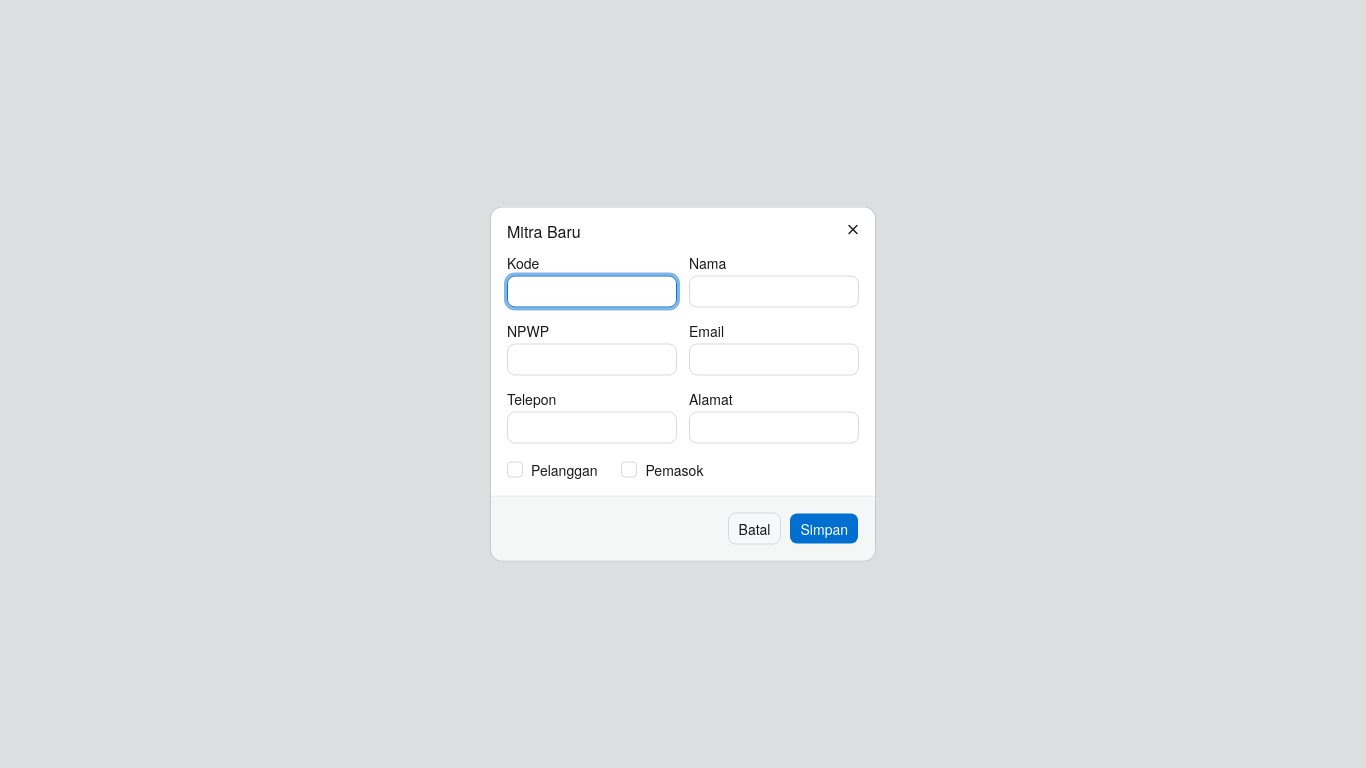
Test: requires at least one of customer/vendor
Type "CUST-9" into the field labelled "Kode" at (592, 292), box [507,276,677,308]
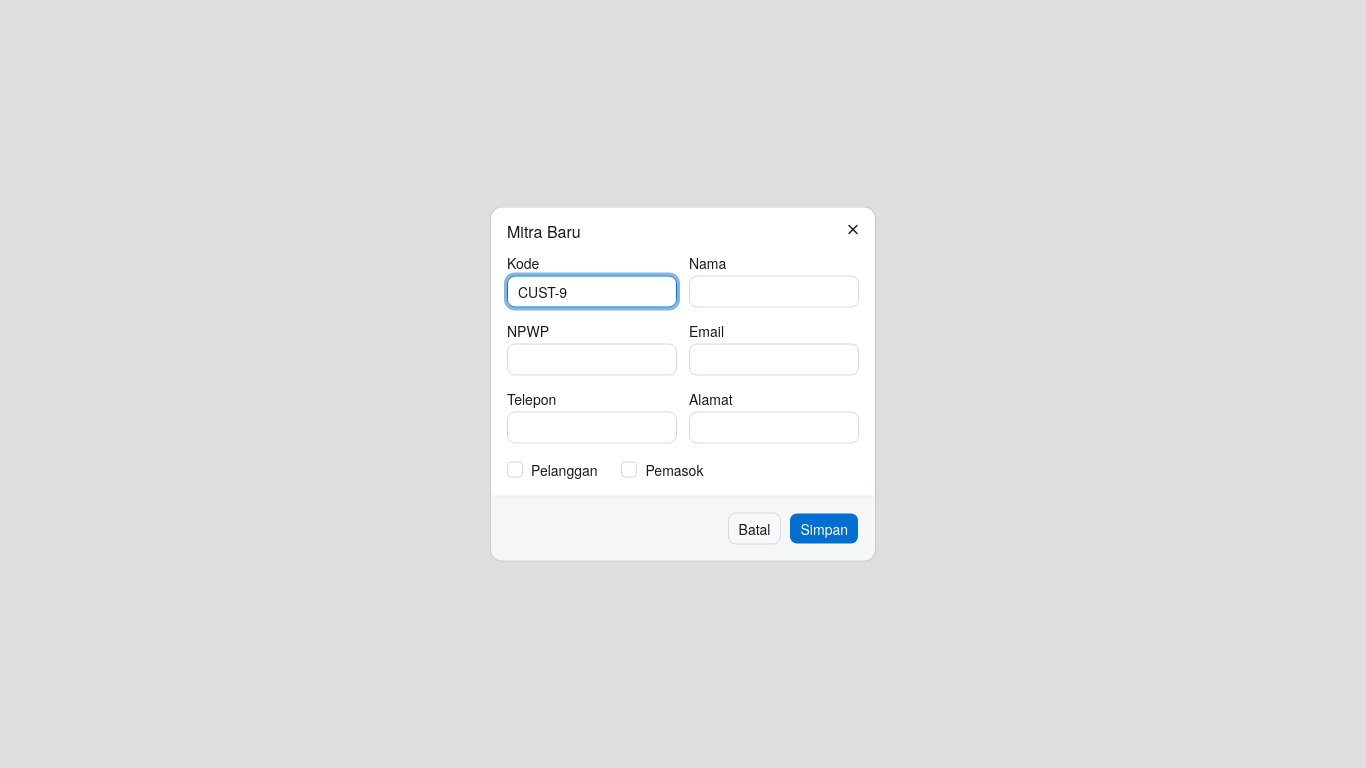
Type "Toko A" into the field labelled "Nama" at (774, 292), box [689,276,859,308]
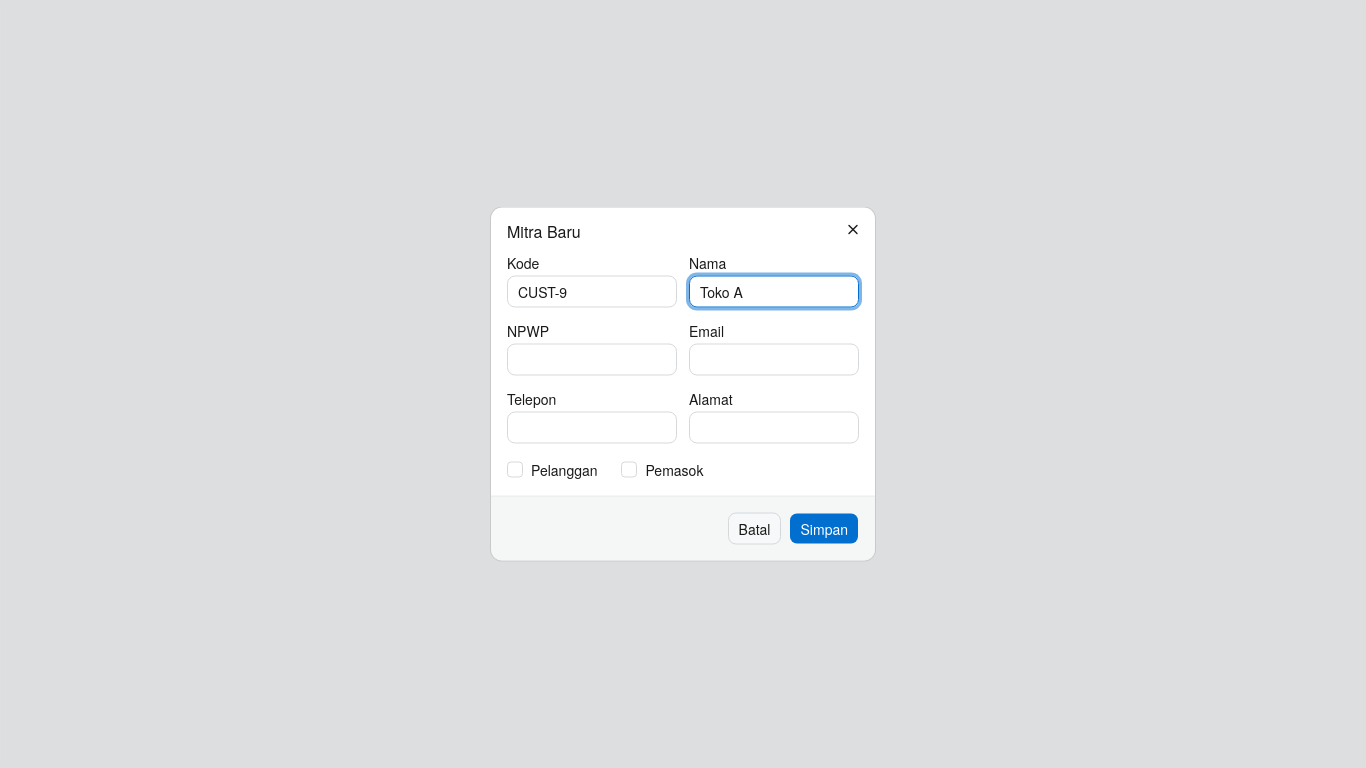
Click the button "Simpan" at (824, 528), box [790,512,859,544]
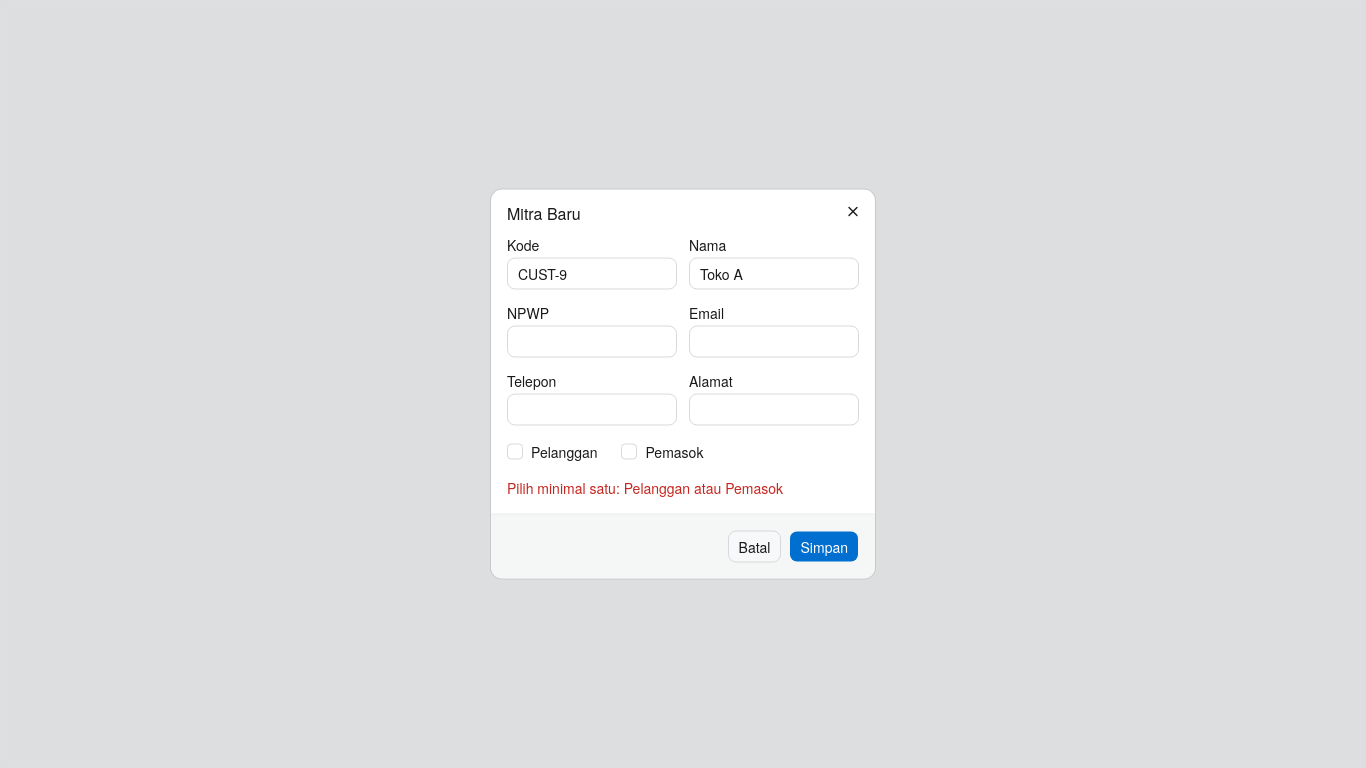
Now the text "Pilih minimal satu: Pelanggan atau Pemasok" is shown, box [507,478,783,498]
